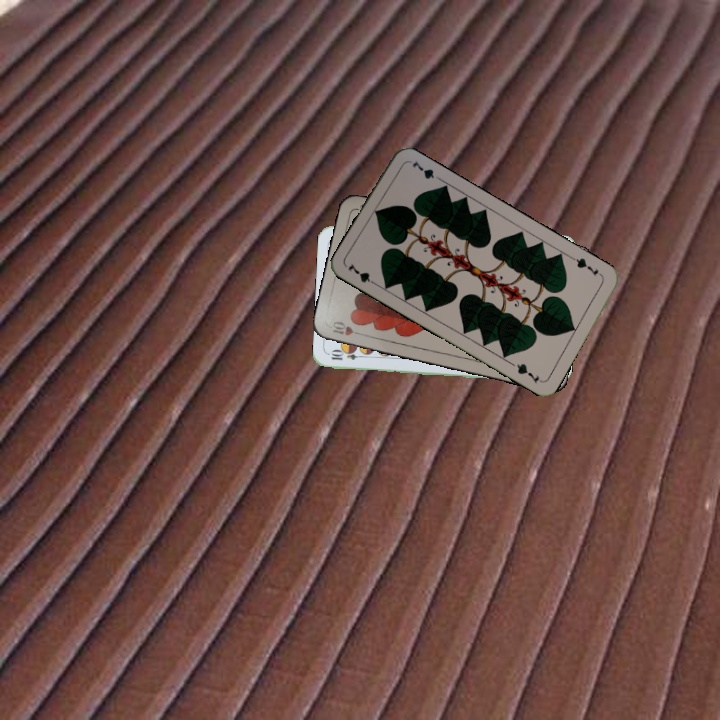E10: (327, 348, 368, 363)
G7: (344, 259, 381, 289), (568, 253, 605, 279)
H10: (329, 317, 367, 338)
